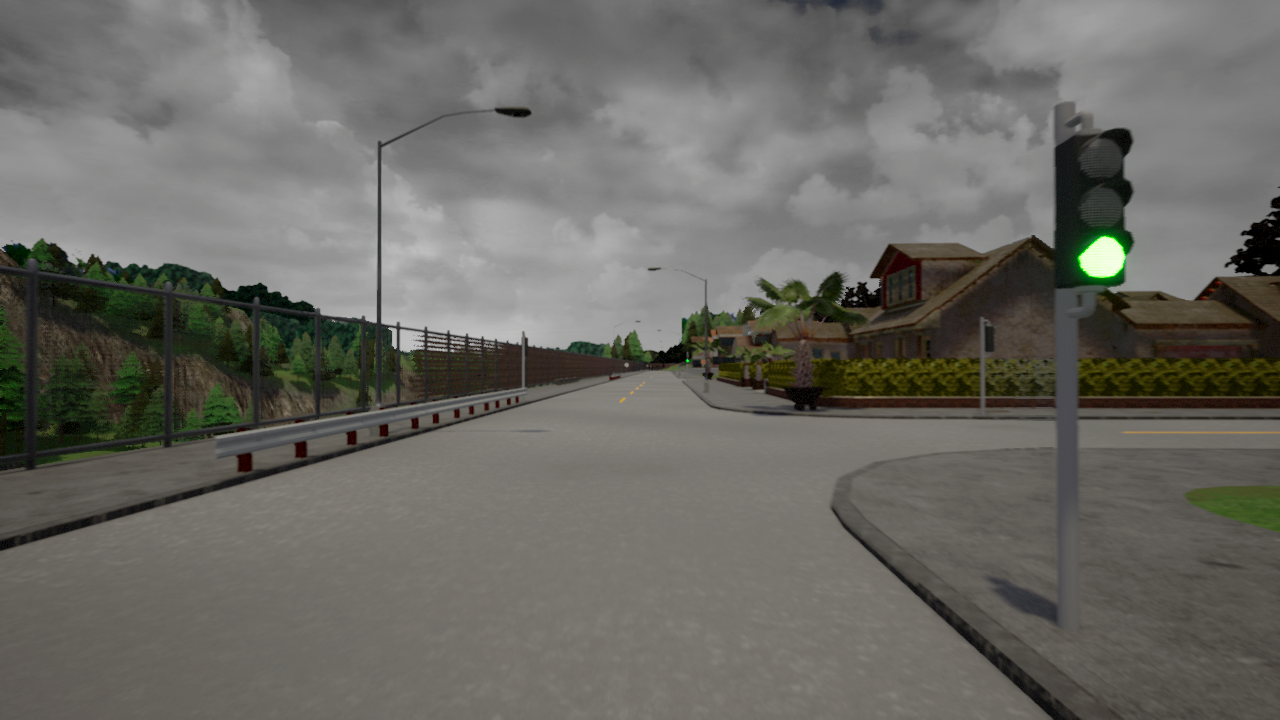green: (1055, 122, 1137, 295)
